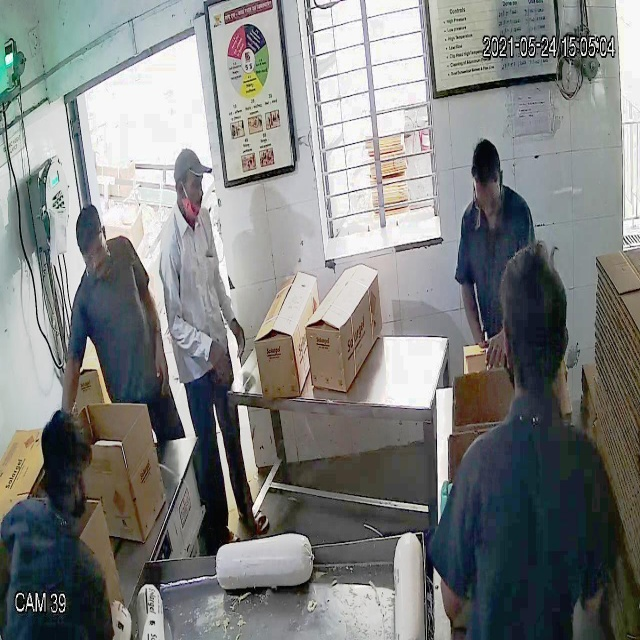Gafas: (471, 187, 503, 217), (76, 240, 107, 268)
Sin_gafas: (173, 171, 205, 198)
